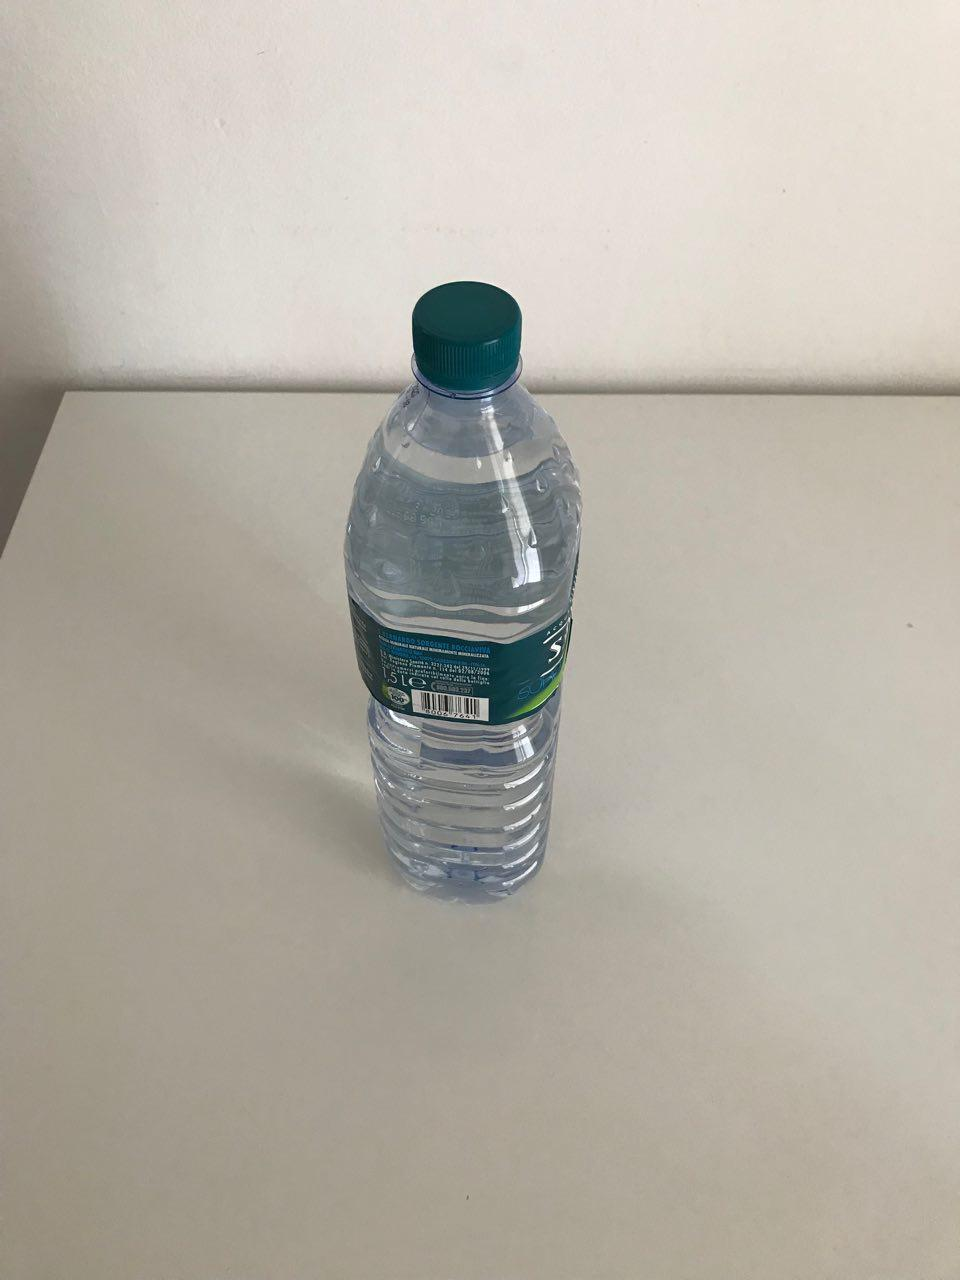san_bernardo: (340, 279, 583, 913)
